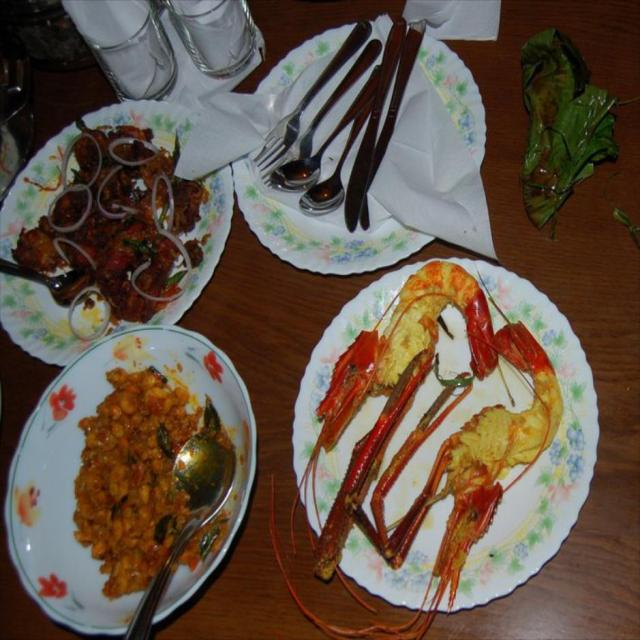non-organic waste: (280, 238, 623, 640), (232, 0, 495, 270), (7, 90, 215, 357)
